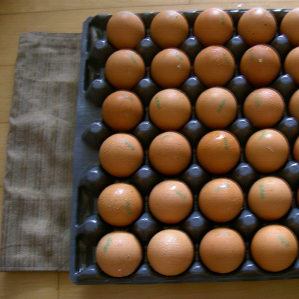egg: (98, 6, 297, 275)
